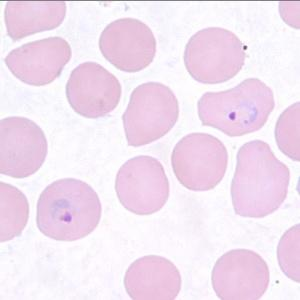Infected: (195, 79, 277, 137), (33, 176, 100, 241)
Uninfected: (229, 141, 289, 220), (170, 131, 229, 193), (185, 27, 246, 85), (114, 155, 170, 217), (4, 36, 72, 87), (124, 83, 179, 145), (98, 20, 157, 72), (65, 62, 122, 115), (212, 248, 270, 300), (0, 115, 47, 179), (122, 256, 181, 300), (4, 1, 66, 41)
